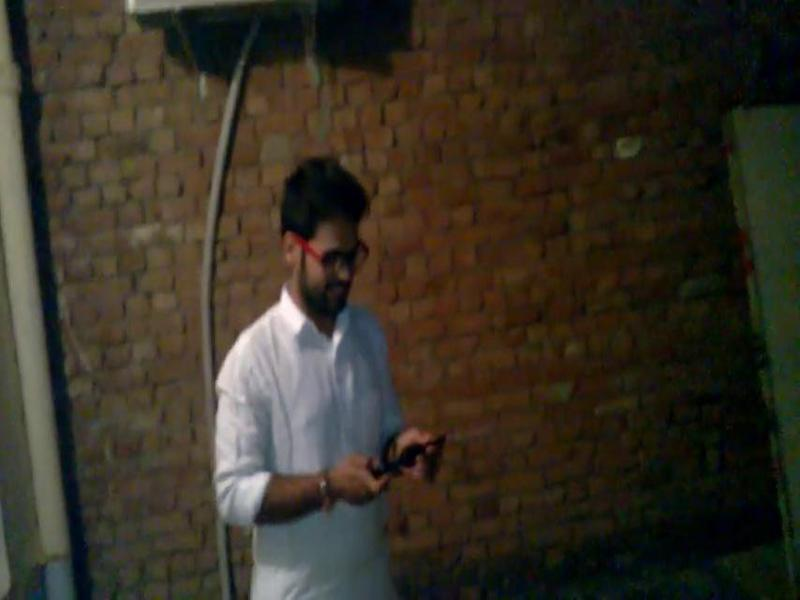Revolver: (337, 425, 479, 496)
